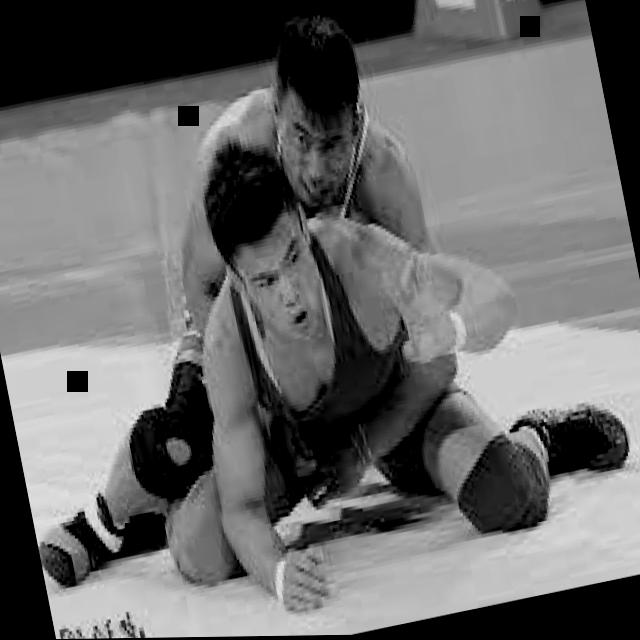Fall-Detected: (0, 9, 479, 600)
